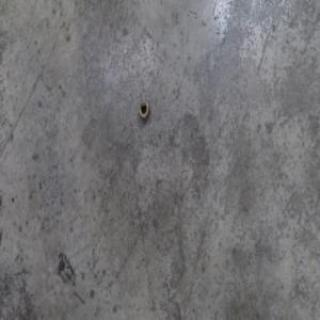Nuttrack_idkeyframe: (138, 99, 150, 122)
